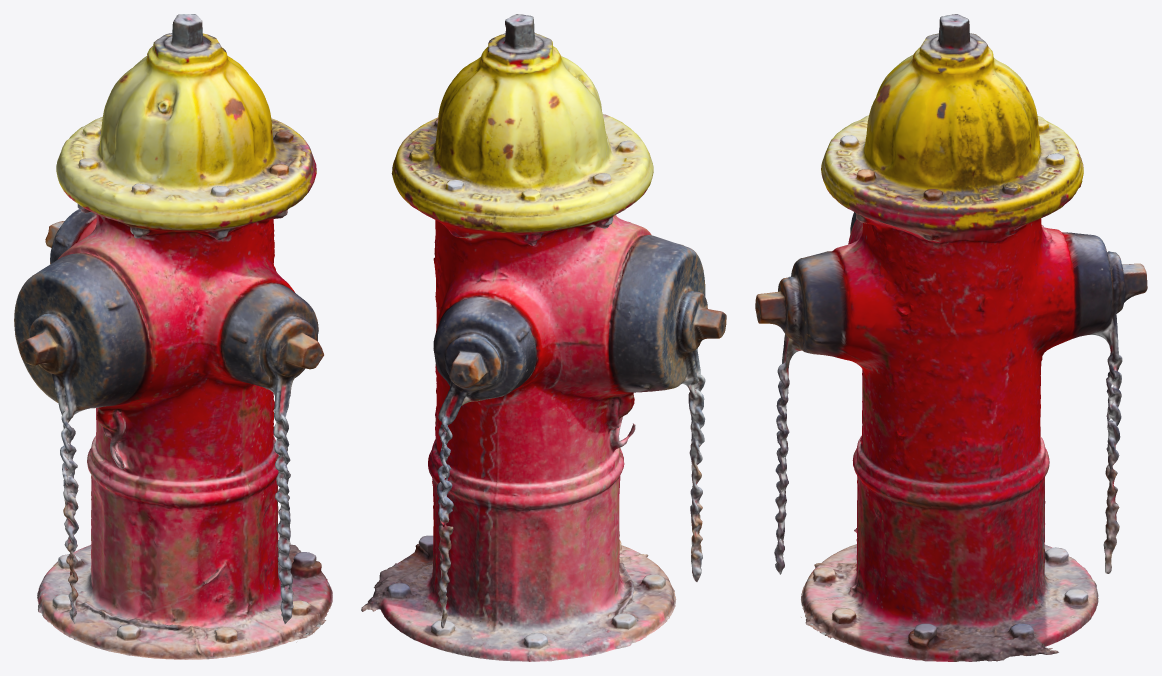
The model's file is fire_hydrant.glb.
The picture shows the model from 3 angles, left to right: view 1: azimuth 30°, elevation 25°; view 2: azimuth 150°, elevation 25°; view 3: azimuth 270°, elevation 25°; orthographic projection.
Parts seen in each view (by area): view 1: Object_2; view 2: Object_2; view 3: Object_2.
Part boxes in pixels (x1,y1,x2,y2): Object_2: (14, 14, 332, 659); Object_2: (361, 14, 726, 661); Object_2: (755, 14, 1147, 661).
Bounding box in the file's own units: 0.4826 × 0.865 × 0.5291.
3 materials, 1 textured.
